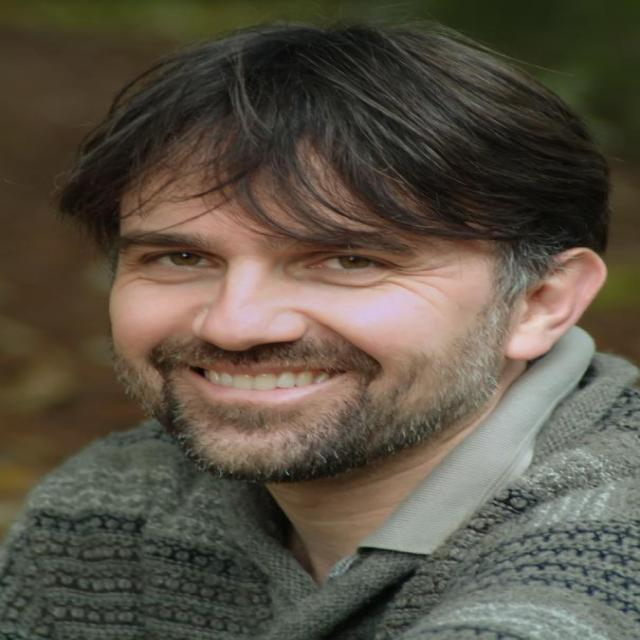no-glass: (114, 250, 402, 274)
